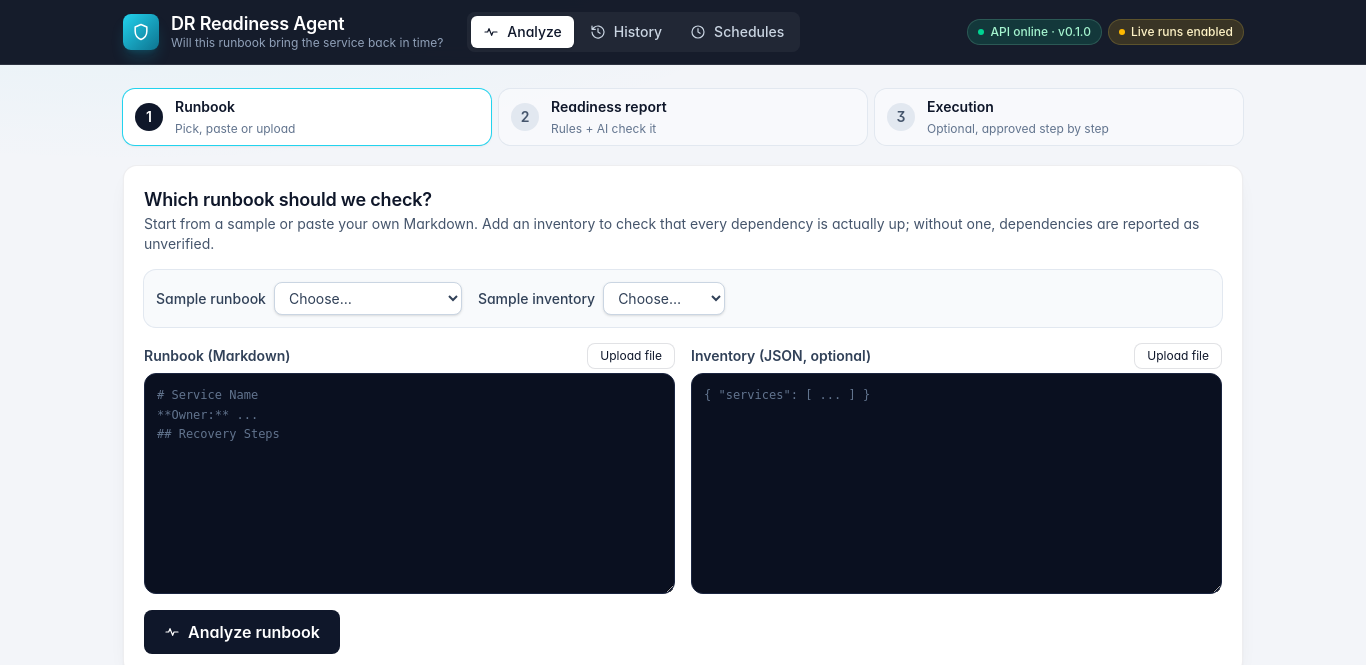
App › runs the demo path: sample -> job -> report
The width and height of the screenshot is (1366, 665).
Select "payment-gateway.md" in the dropdown labelled "Sample runbook" at (368, 298), box [274,282,462,315]
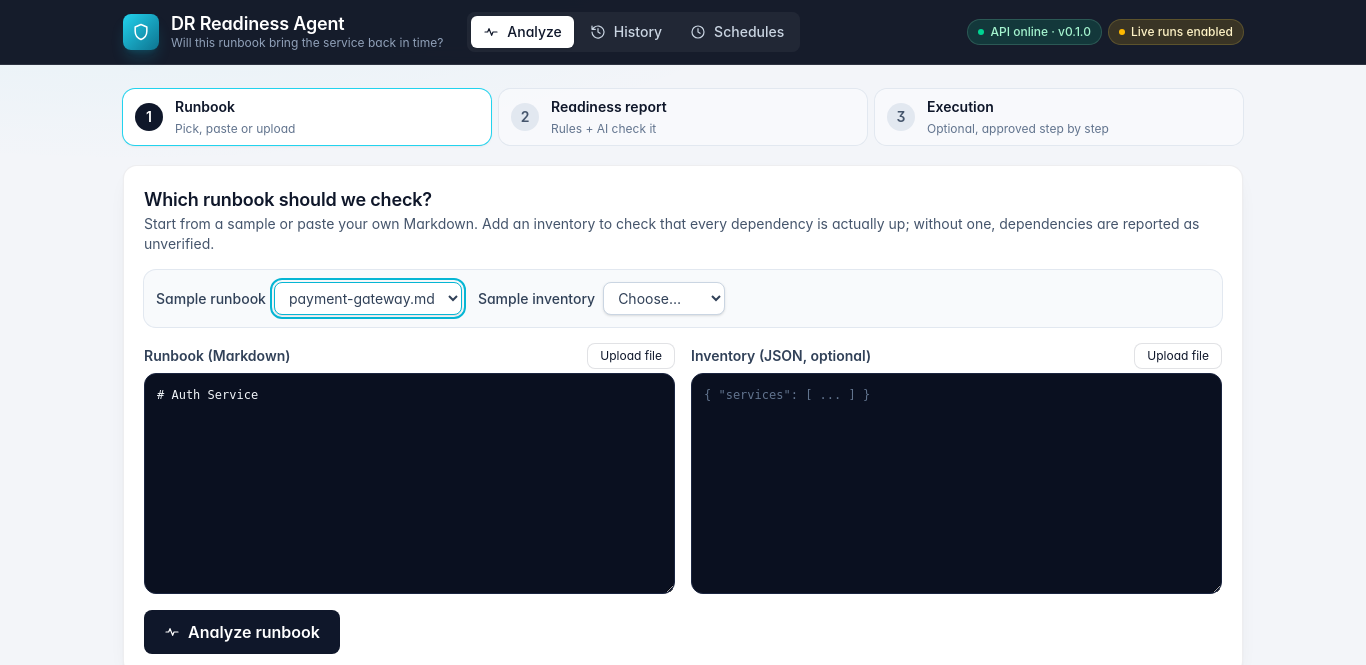
Click the button "Analyze runbook".
click(242, 632)  # box [144,610,340,654]
(page scrolled)
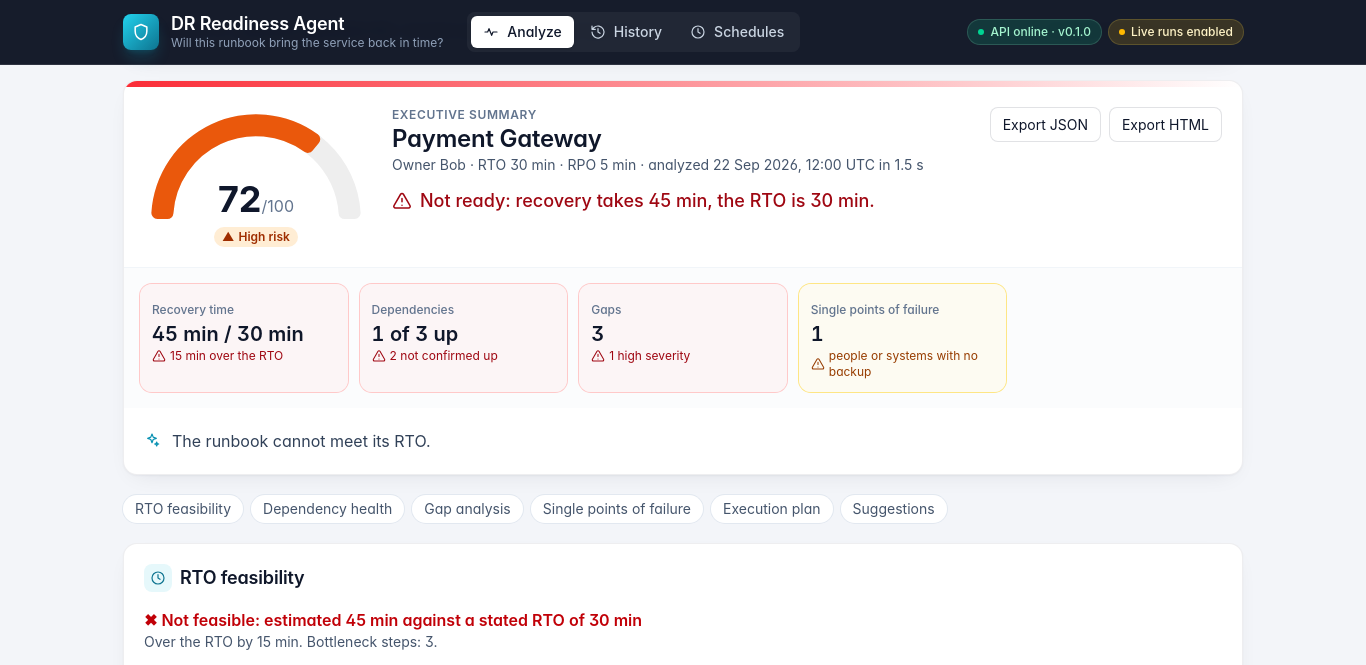
Now the heading "Payment Gateway" is shown, box [392,124,602,153]
